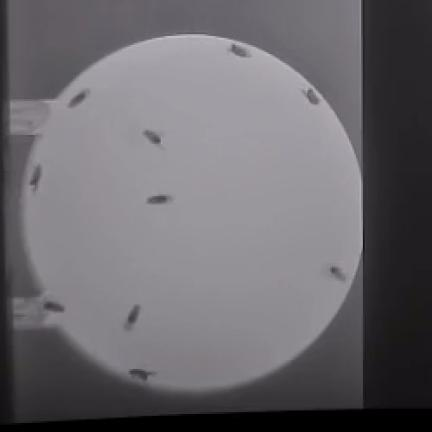fly: (125, 305, 141, 331), (68, 90, 89, 107), (144, 130, 162, 149), (30, 164, 41, 192), (130, 369, 155, 381), (230, 44, 250, 57), (44, 301, 65, 313), (147, 195, 172, 205), (303, 89, 319, 104), (331, 267, 347, 280)
